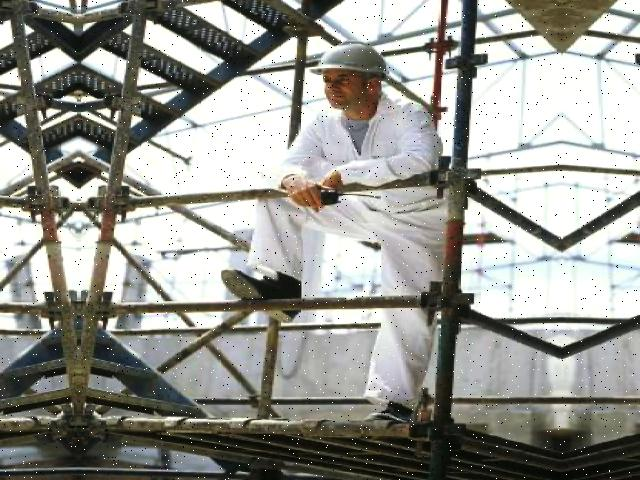Helmet: (302, 35, 392, 83)
